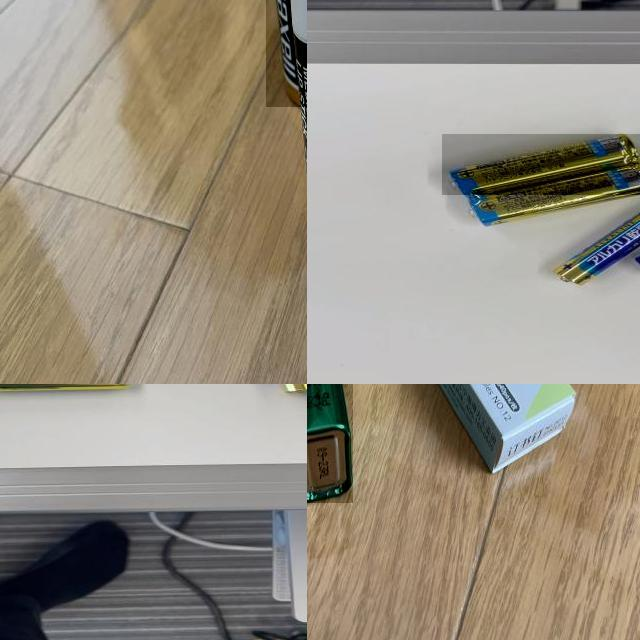9V: (307, 384, 353, 503)
